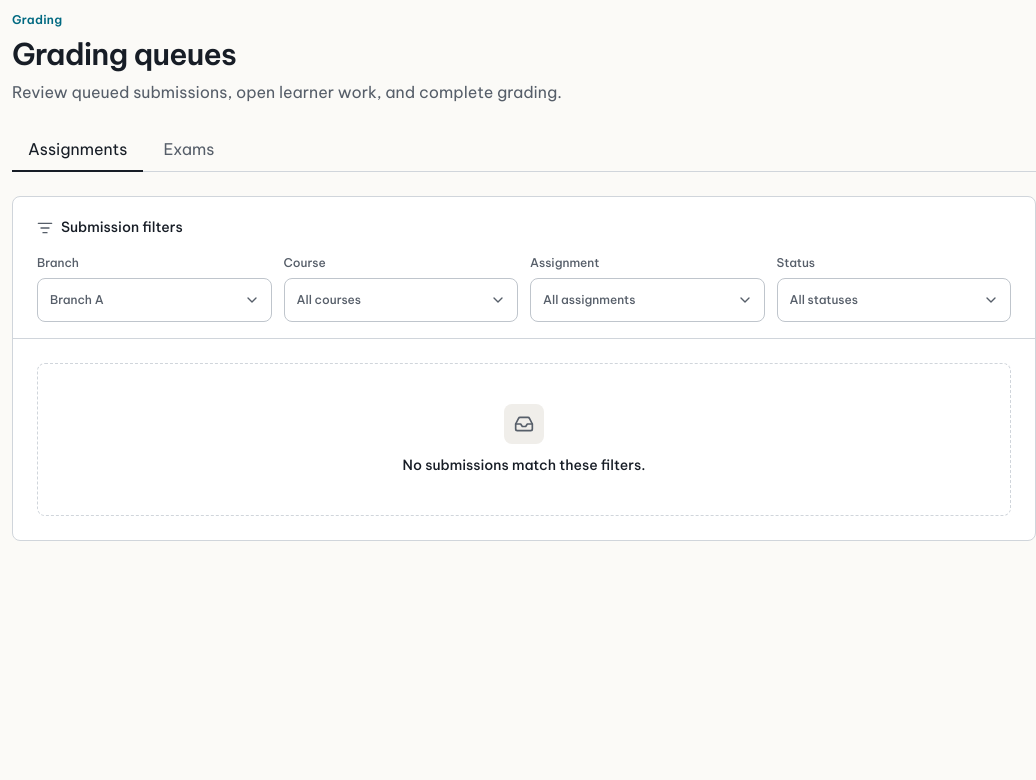
Test: grading queue heading composition › keeps one page-level heading while queue children retain subordinate titles
expect the heading "Grading queues" is shown: met, box x1=12 y1=35 x2=236 y2=73
Click the tab "Exams".
click(189, 150)  # box x1=147 y1=128 x2=230 y2=172
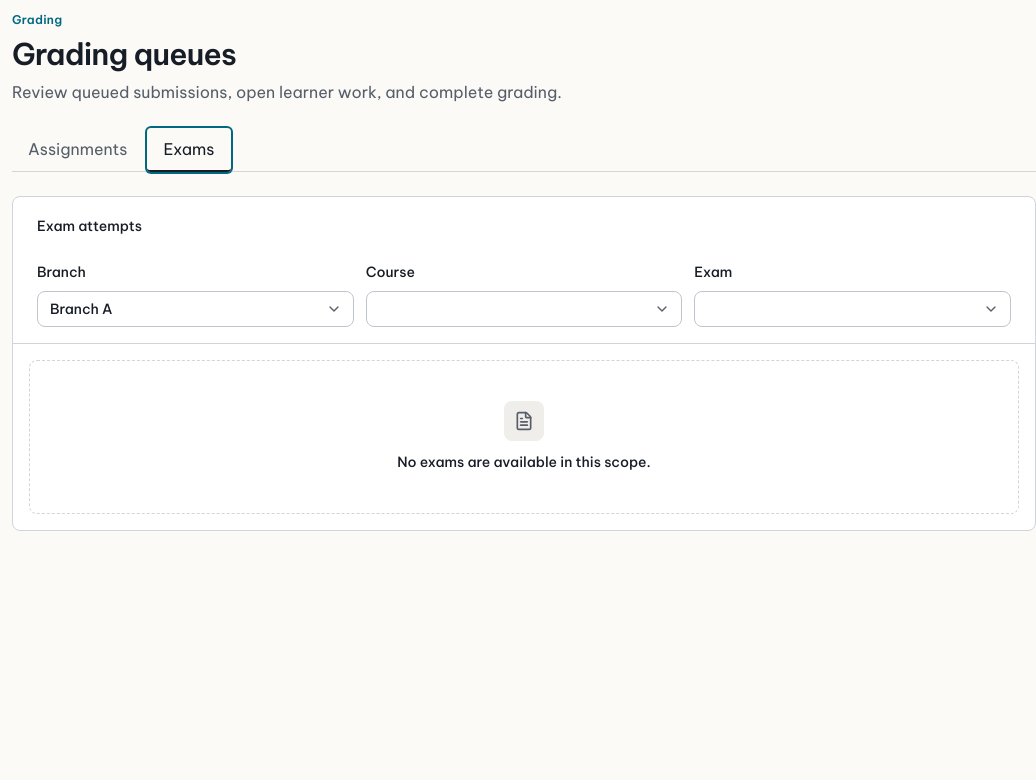
expect the heading "Exam attempts" is shown: met, box x1=37 y1=217 x2=142 y2=235
